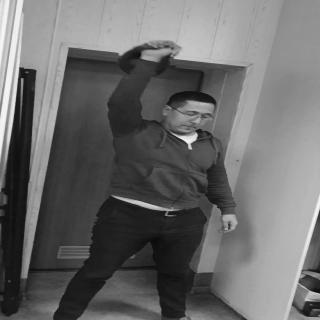kettlebell: (119, 43, 178, 79)
